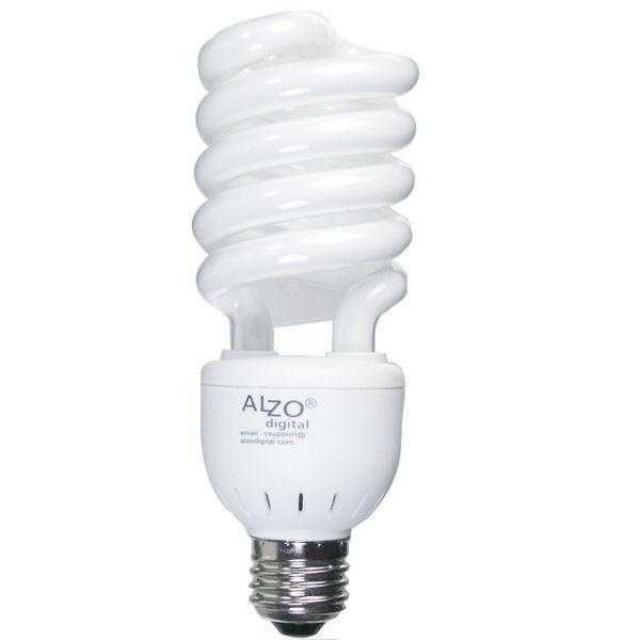light_bulb: (187, 15, 416, 640)
